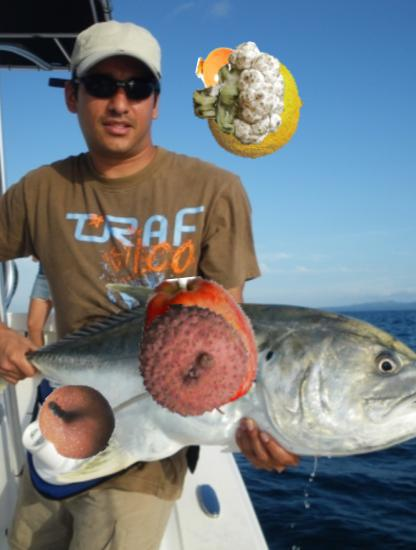Apple: (129, 277, 269, 417)
Cantaloupe: (200, 49, 310, 159)
Cauliflower: (190, 41, 294, 145)
Granadilla: (38, 383, 117, 462)
Lychee: (135, 303, 251, 419)
Physalis: (196, 45, 250, 99)
